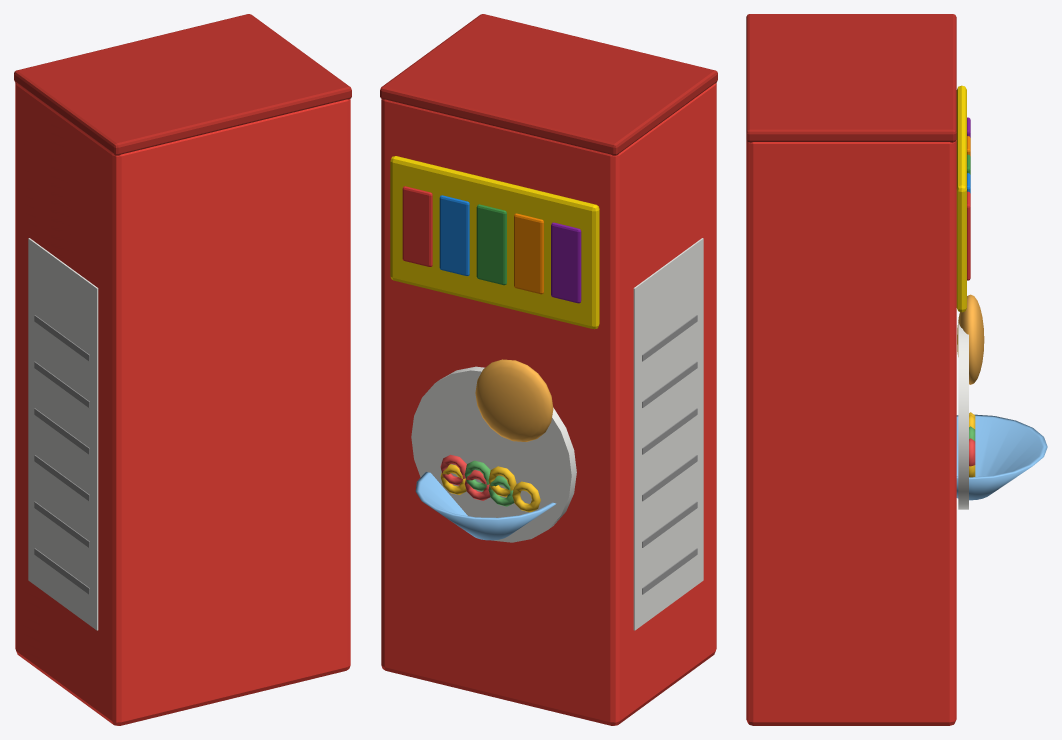
The model's file is cereal.fbx.
The picture shows the model from 3 angles, left to right: view 1: azimuth 30°, elevation 25°; view 2: azimuth 150°, elevation 25°; view 3: azimuth 270°, elevation 25°; orthographic projection. The views are drawn at different scales.
Visible parts, largest first — view 1: Cereal Box; view 2: Cereal Box; view 3: Cereal Box.
Part boxes in pixels (x1,y1,x2,y2): Cereal Box: (14, 14, 351, 725); Cereal Box: (380, 14, 717, 725); Cereal Box: (746, 14, 1047, 725).
Size of the model in its own units: 0.808 by 1.88 by 0.86.
